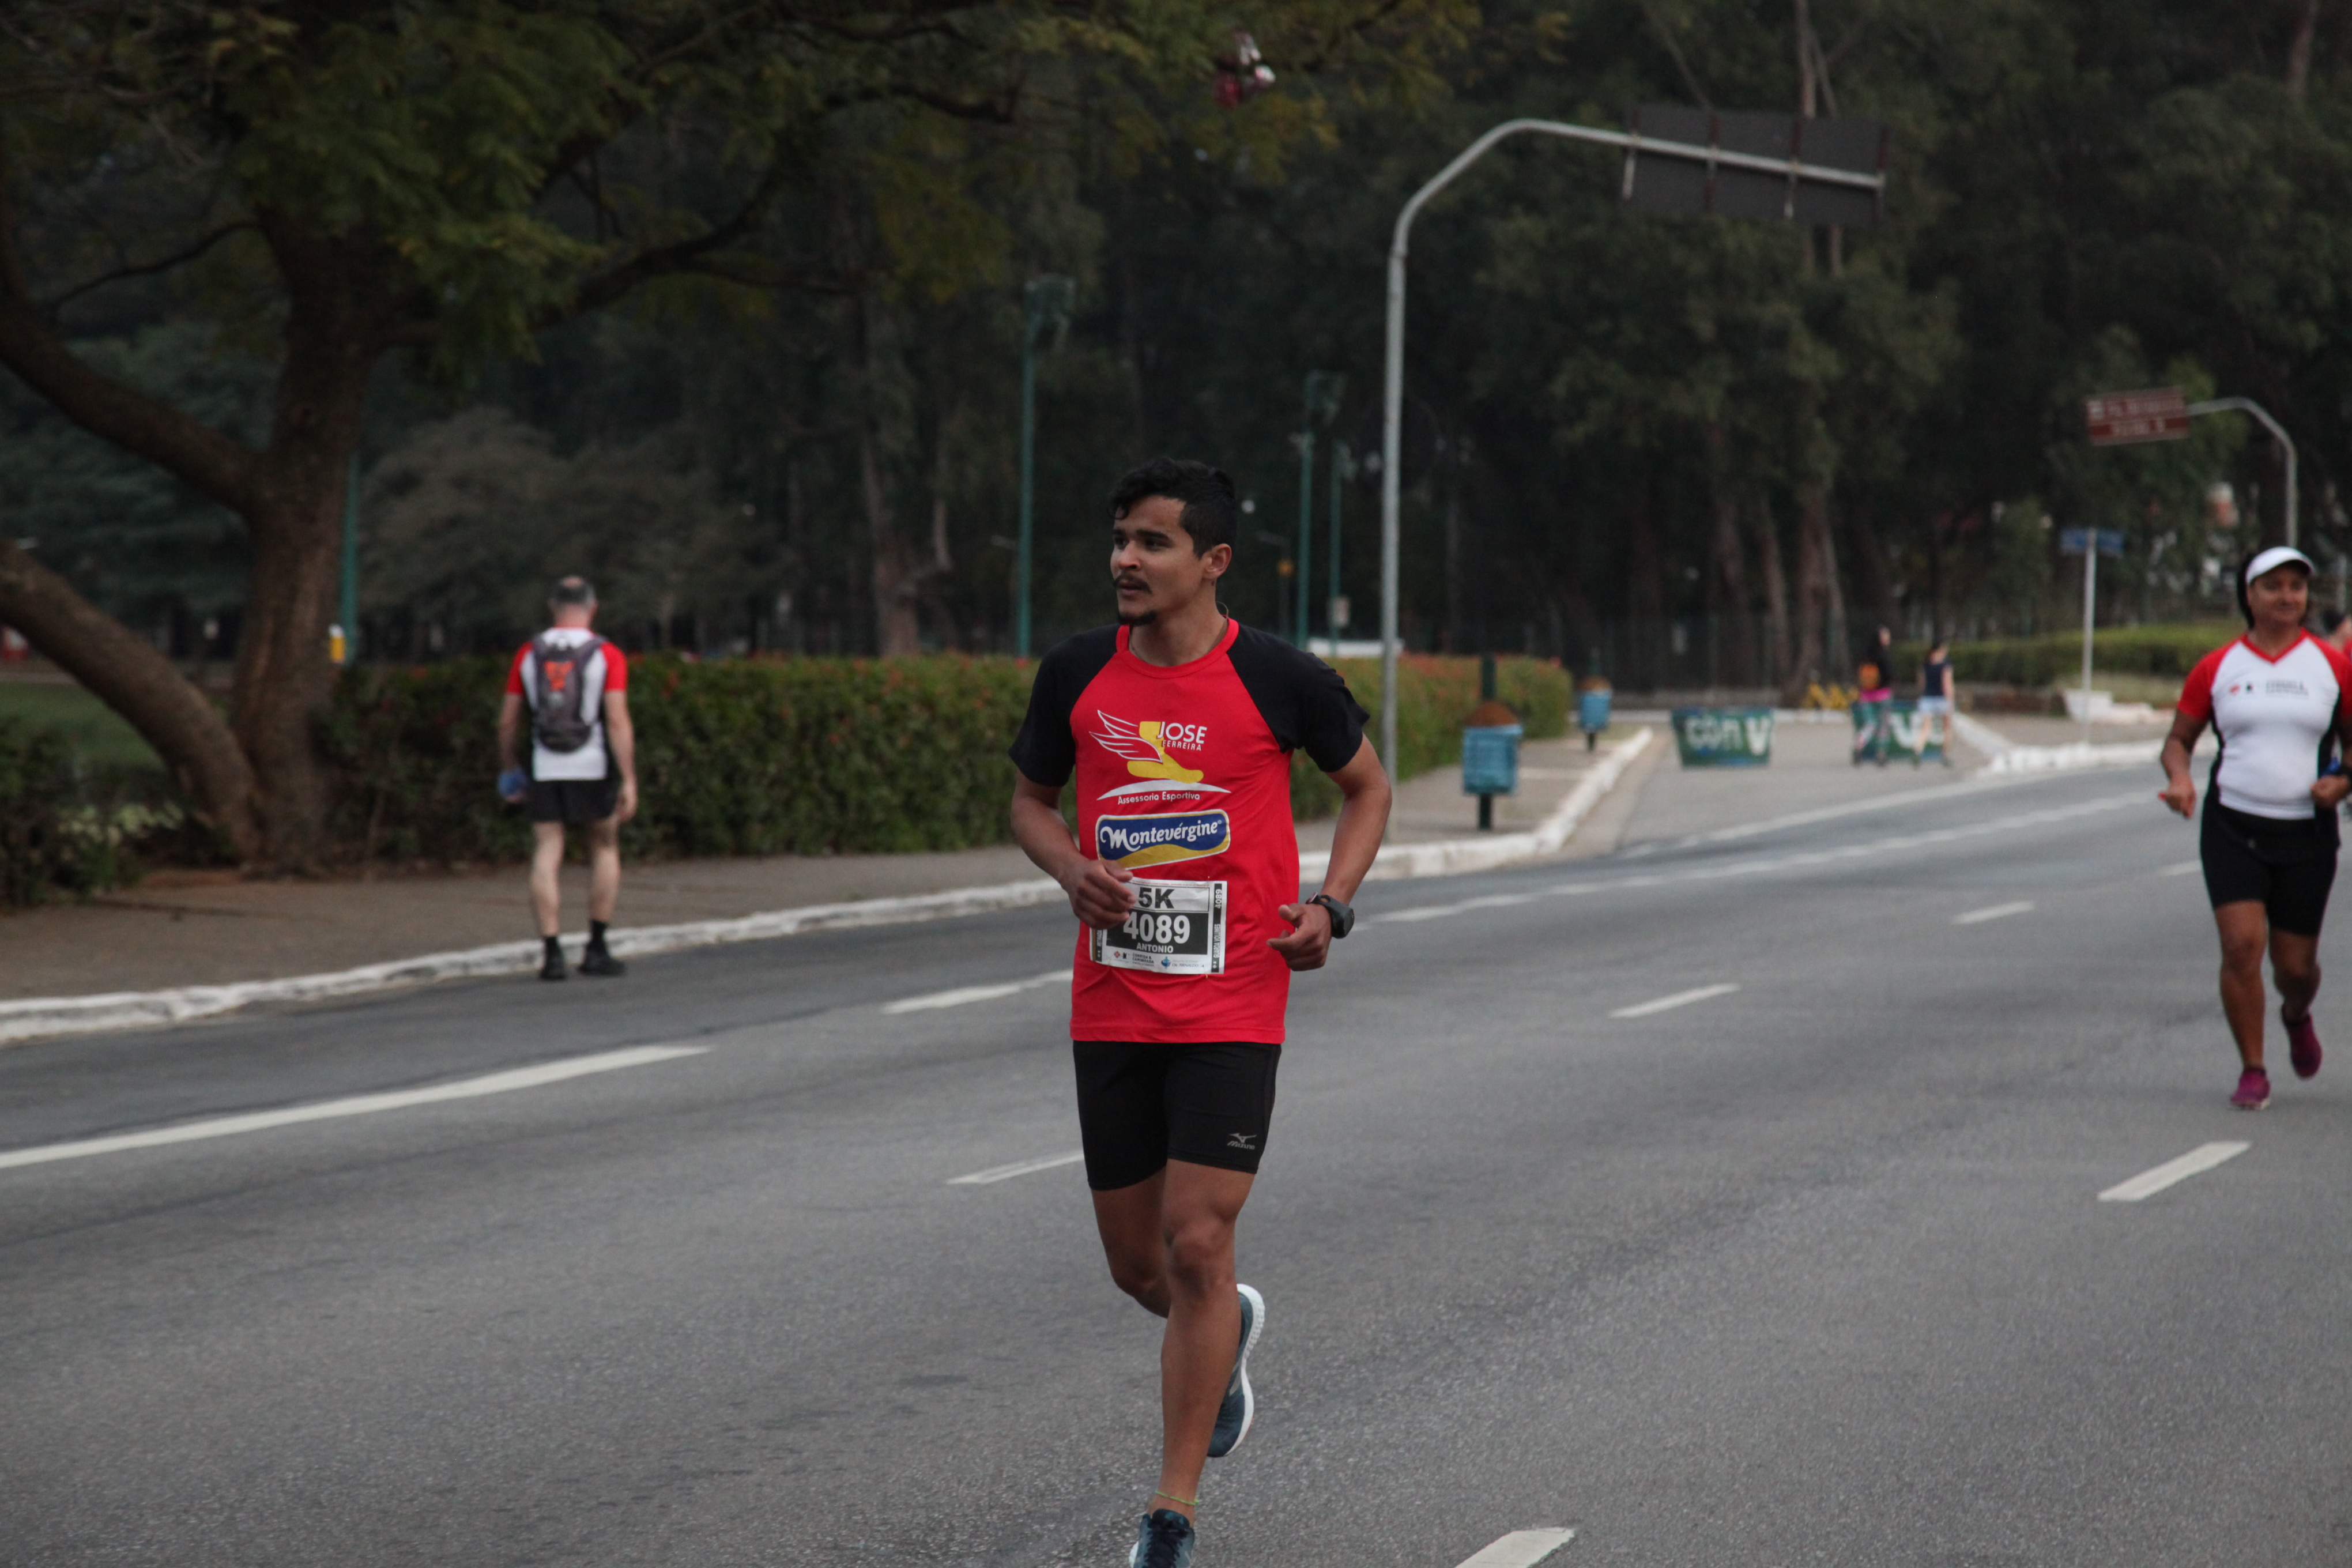bibtag: (1087, 866, 1232, 992)
